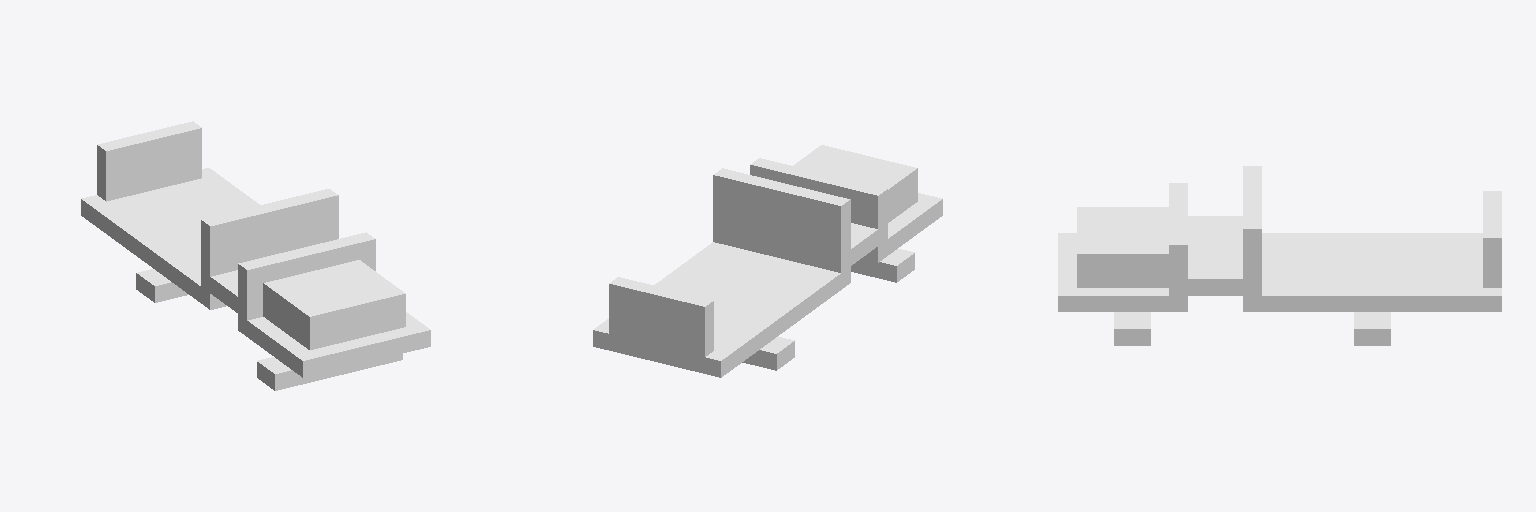
File: Truck-2.obj
3 views of the same model, side by side, from view 1: azimuth 30°, elevation 25°; view 2: azimuth 150°, elevation 25°; view 3: azimuth 270°, elevation 25° (orthographic).
Parts seen in each view (by area): view 1: Truck-2; view 2: Truck-2; view 3: Truck-2.
Boxes of the visible parts, <box> form: Truck-2: <box>81,121,430,390</box>; Truck-2: <box>593,145,942,377</box>; Truck-2: <box>1058,166,1501,345</box>.
Size of the model in its own units: 8 by 7 by 24.